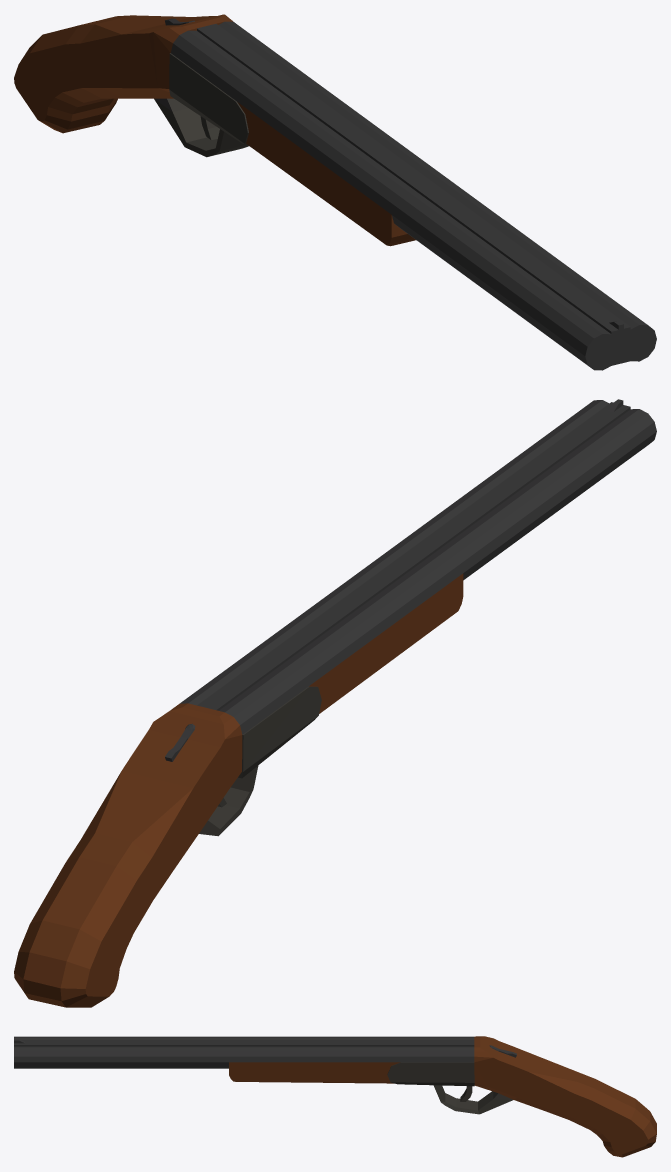
The model's file is DoubleBarrel100percentdone_plsdontbreak.fbx.
3 renders of one model, top to bottom at view 1: azimuth 30°, elevation 25°; view 2: azimuth 150°, elevation 25°; view 3: azimuth 270°, elevation 25°, orthographic. The views are drawn at different scales.
Parts seen in each view (by area): view 1: Barrels, HandlePart, BreakActionPart.001; view 2: HandlePart, Barrels, BreakActionPart.001; view 3: Barrels, HandlePart, BreakActionPart.001.
Boxes of the visible parts, <box> form: Barrels: <box>171,21,656,370</box>; HandlePart: <box>14,14,248,157</box>; BreakActionPart.001: <box>237,102,415,246</box>; HandlePart: <box>14,686,321,1007</box>; Barrels: <box>180,399,656,734</box>; BreakActionPart.001: <box>309,573,463,713</box>; Barrels: <box>14,1036,474,1068</box>; HandlePart: <box>387,1036,656,1157</box>; BreakActionPart.001: <box>229,1062,400,1083</box>.
Bounding box in the file's own units: 447 × 1171 × 6063.
